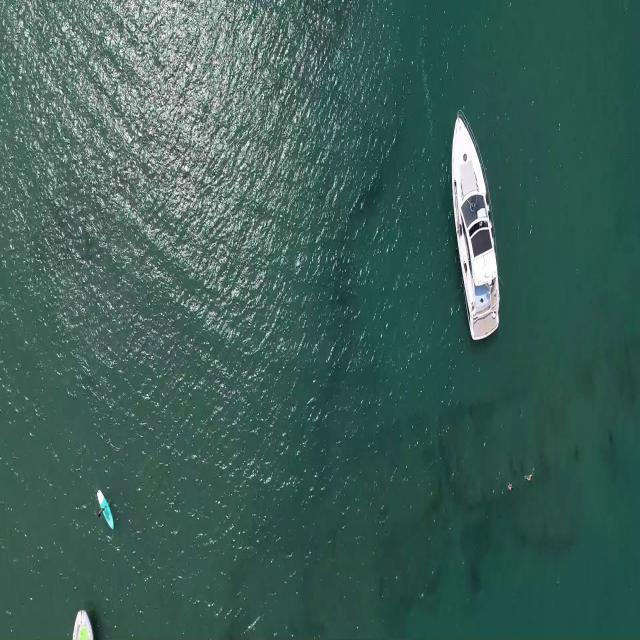boat: (448, 108, 503, 346)
person: (523, 468, 536, 482), (96, 503, 107, 518), (507, 481, 515, 491)
surfboard: (98, 486, 114, 536)
